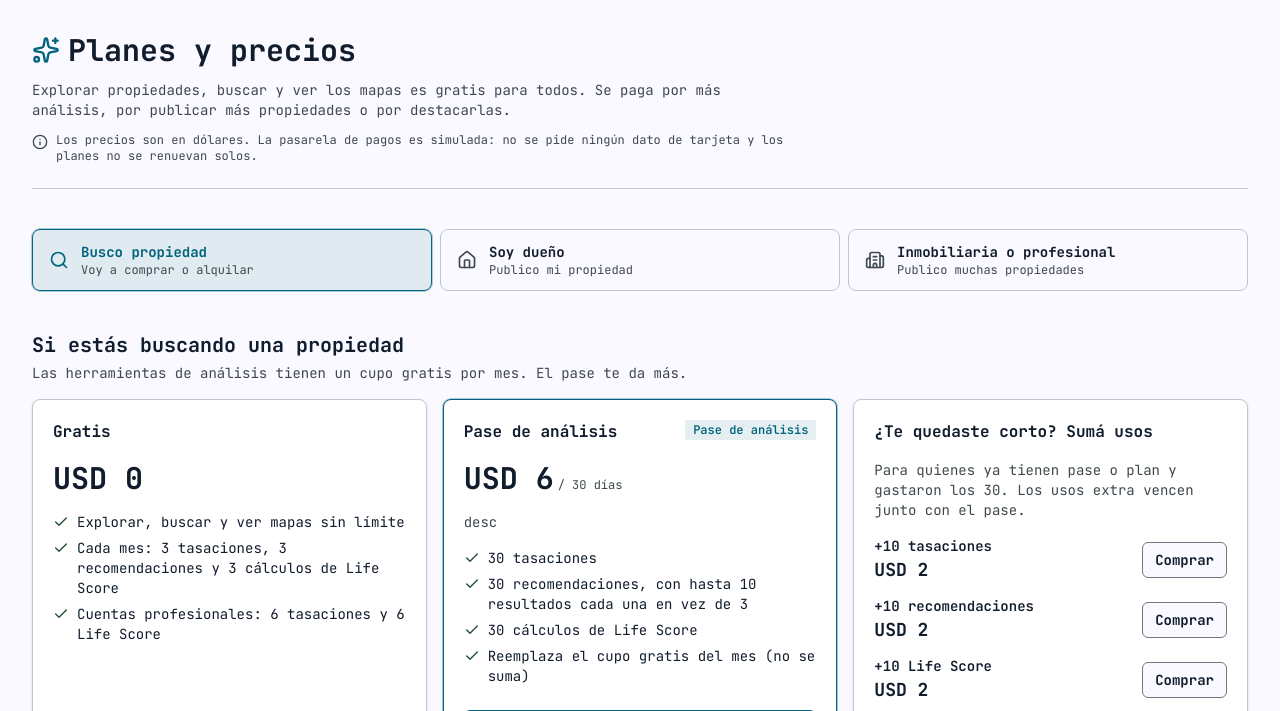
Test: Planes con pestañas › la pestaña profesional incluye el pack de destacados
Click the tab "Inmobiliaria o profesional Publico muchas propiedades": (1048, 260) [848,229,1248,291]
(page scrolled)
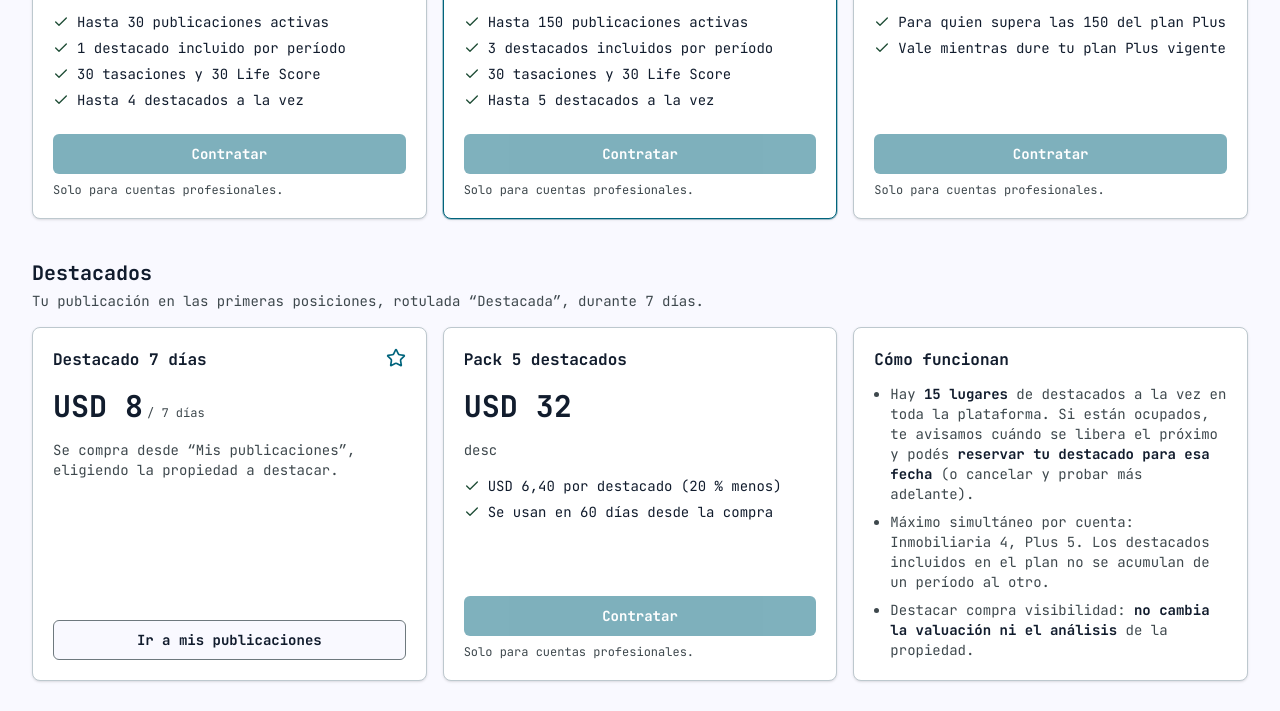
Result: the heading "Pack 5 destacados" is shown at [464,348,627,372]
